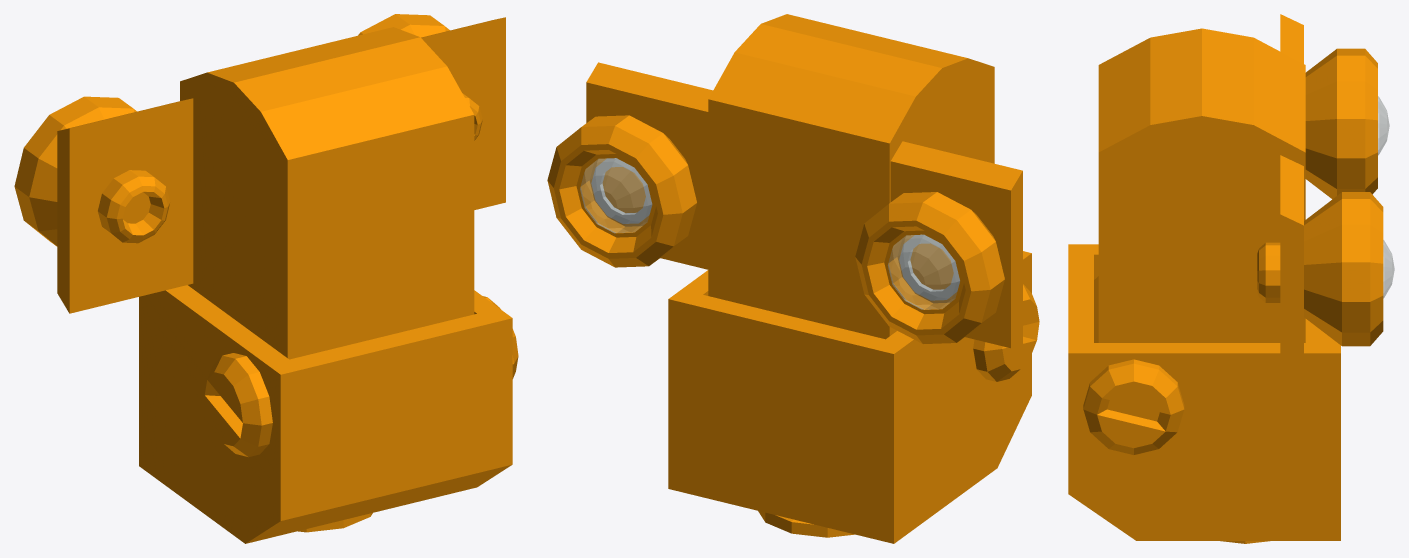
The model's file is head03.glb.
3 renders of one model, left to right at view 1: azimuth 30°, elevation 25°; view 2: azimuth 150°, elevation 25°; view 3: azimuth 270°, elevation 25°, orthographic. The views are drawn at different scales.
Visible parts, largest first — view 1: group318443727; view 2: group318443727; view 3: group318443727.
Boxes of the visible parts, x1,y1,x2,y2 form: group318443727: [14, 14, 518, 543]; group318443727: [547, 14, 1039, 543]; group318443727: [1068, 14, 1394, 543].
Bounding box in the file's own units: 0.7748 × 0.7488 × 0.5028.
